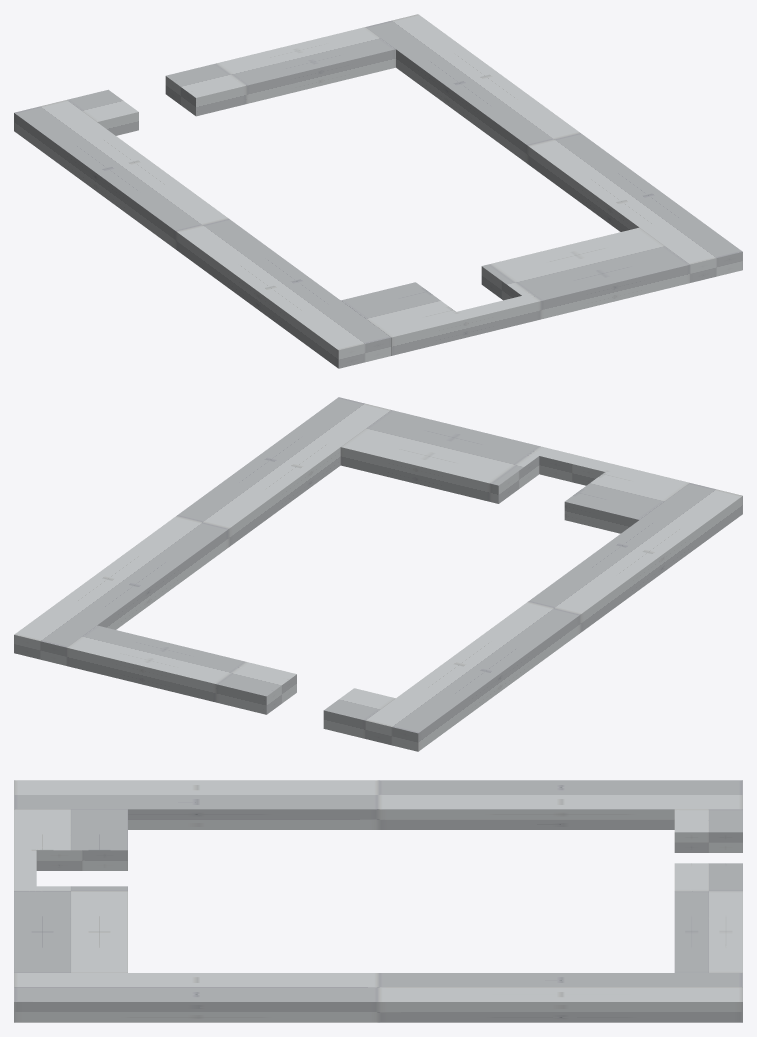
The model's file is PSChaseWall.gltf.
The picture shows the model from 3 angles, top to bottom: view 1: azimuth 30°, elevation 25°; view 2: azimuth 150°, elevation 25°; view 3: azimuth 270°, elevation 25°; orthographic projection. The views are drawn at different scales.
Parts seen in each view (by area): view 1: ChasePSWall22, ChasePSWall12, ChasePSWall32, ChasePSWall42; view 2: ChasePSWall22, ChasePSWall12, ChasePSWall32, ChasePSWall42; view 3: ChasePSWall12, ChasePSWall22, ChasePSWall32, ChasePSWall42.
Part boxes in pixels (left/top/right/bottom): ChasePSWall22: left=14, top=100, right=391, bottom=368; ChasePSWall12: left=366, top=14, right=742, bottom=282; ChasePSWall32: left=341, top=227, right=690, bottom=355; ChasePSWall42: left=67, top=27, right=395, bottom=135; ChasePSWall22: left=365, top=483, right=742, bottom=751; ChasePSWall12: left=14, top=397, right=390, bottom=665; ChasePSWall32: left=340, top=410, right=689, bottom=533; ChasePSWall42: left=66, top=625, right=395, bottom=738; ChasePSWall12: left=14, top=973, right=742, bottom=1022; ChasePSWall22: left=14, top=780, right=742, bottom=829; ChasePSWall32: left=14, top=809, right=127, bottom=972; ChasePSWall42: left=674, top=809, right=742, bottom=972.
Size of the model in its own units: 23 by 1 by 32.
Materials: 1 (1 with a texture image).
